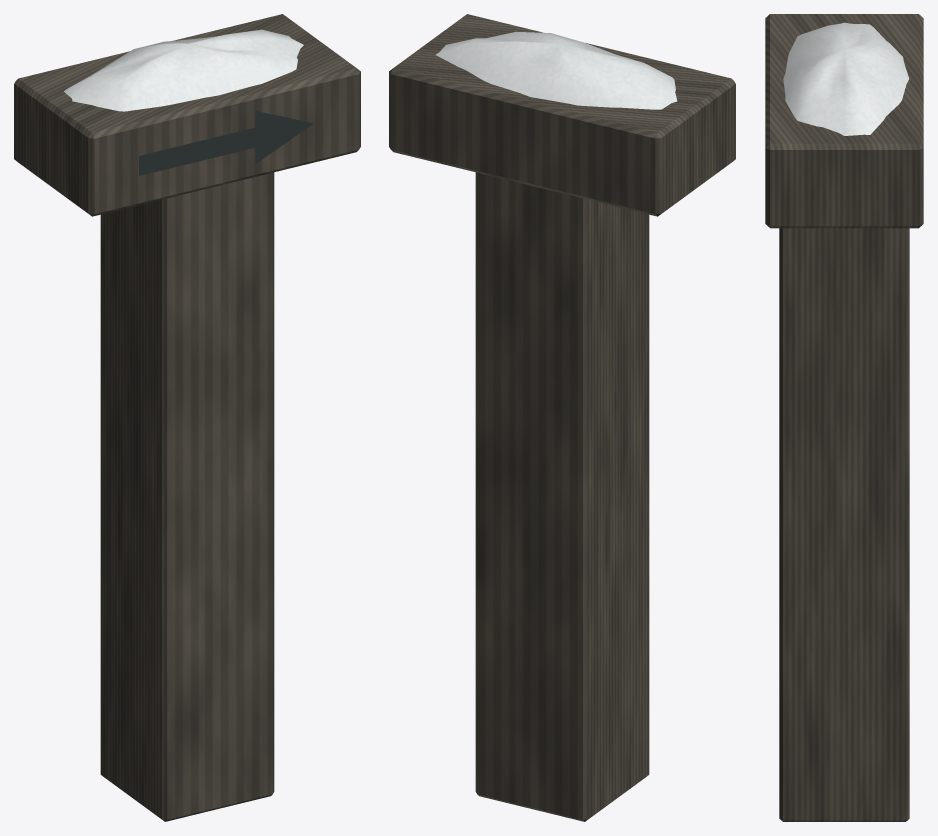
3 views of the same model, side by side, from view 1: azimuth 30°, elevation 25°; view 2: azimuth 150°, elevation 25°; view 3: azimuth 270°, elevation 25° (orthographic).
Visible parts, largest first — view 1: Mesh_wood, Mesh_snow, Mesh_iron; view 2: Mesh_wood, Mesh_snow; view 3: Mesh_wood, Mesh_snow.
Part boxes in pixels (bbox=[...]): Mesh_wood: bbox=[14, 14, 360, 821]; Mesh_snow: bbox=[64, 29, 303, 111]; Mesh_iron: bbox=[139, 111, 313, 175]; Mesh_wood: bbox=[389, 14, 735, 821]; Mesh_snow: bbox=[435, 31, 677, 109]; Mesh_wood: bbox=[765, 14, 923, 821]; Mesh_snow: bbox=[783, 22, 909, 135].
Bounding box in the file's own units: 0.34 × 0.885 × 0.171.
Materials: 3 (2 with a texture image).
